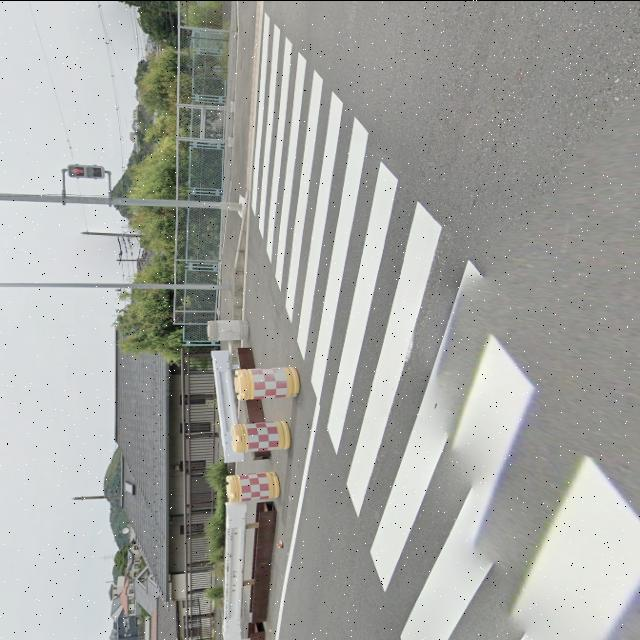traffic-light: (67, 162, 102, 179)
